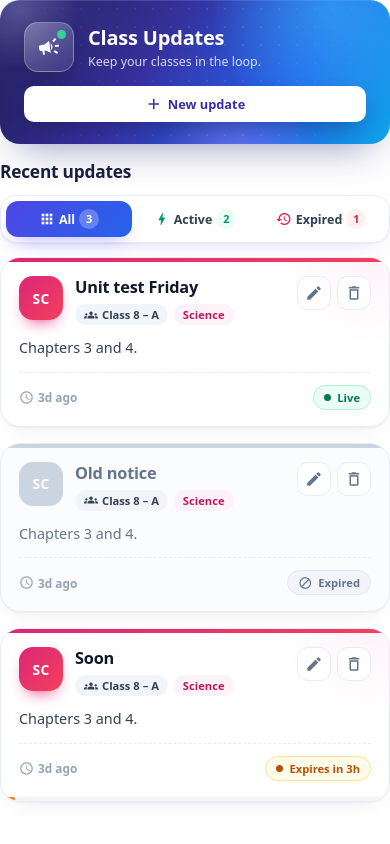
Test: TeacherClassUpdatesComponent › filters between all, active and expired updates, with counts
Click the tab "Expired 1" at (321, 219), box x1=258 y1=201 x2=384 y2=237
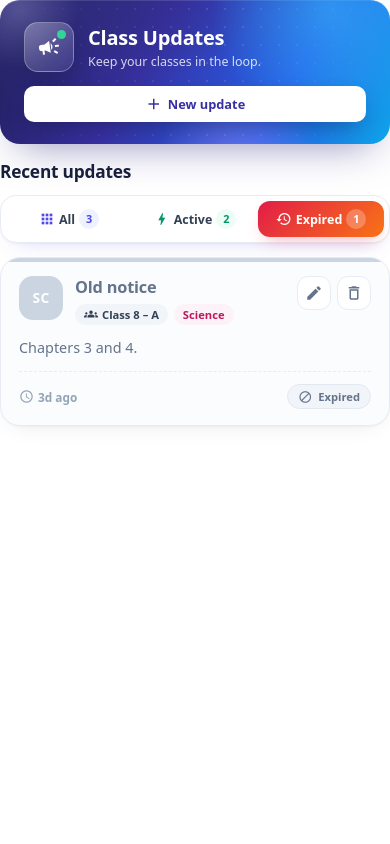
expect the element with class "tcu-card" shows "Old notice": met, box x1=75 y1=276 x2=156 y2=298
expect the number of elements with class "tcu-card" is 1: met, box x1=0 y1=257 x2=389 y2=426
Click the tab "Active 2" at (195, 219), box x1=132 y1=201 x2=258 y2=237
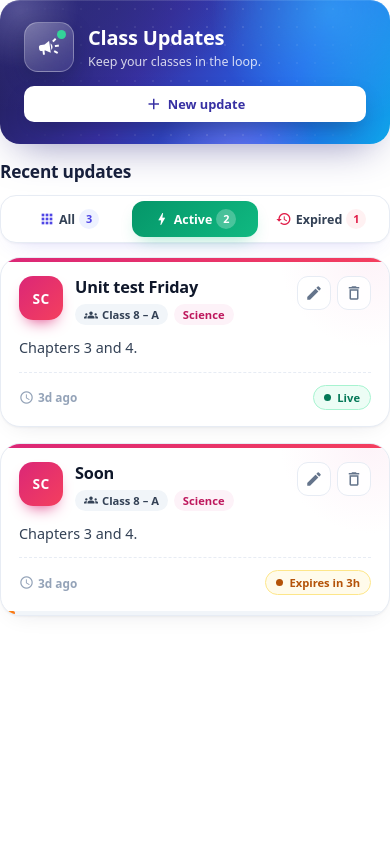
expect the number of elements with class "tcu-card" is 2: met, box x1=0 y1=257 x2=389 y2=426; x1=0 y1=442 x2=389 y2=616
expect the text "Expires in 3h" is shown: met, box x1=265 y1=570 x2=371 y2=595
